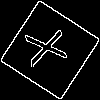X: (25, 25, 77, 68)
